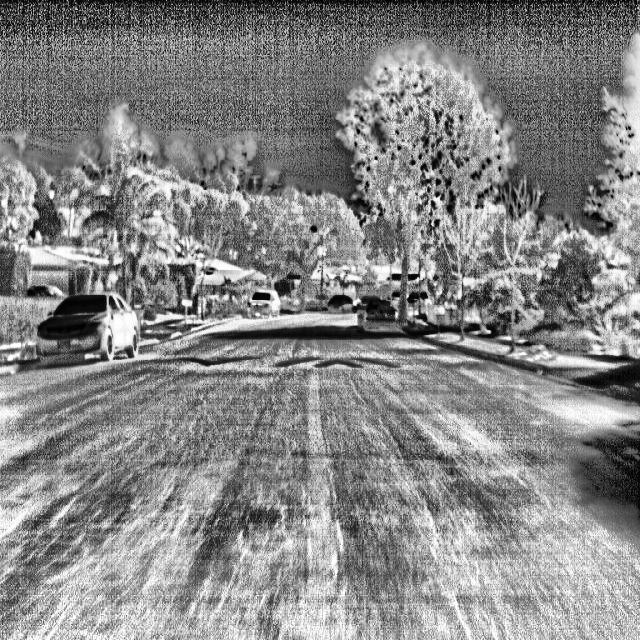car: (34, 276, 164, 393), (348, 271, 417, 348), (237, 280, 288, 330), (318, 281, 366, 325)
